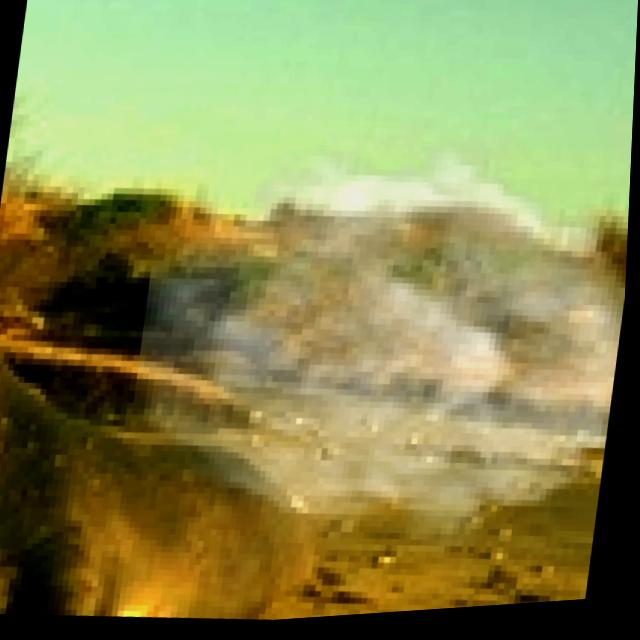smoke: (118, 107, 635, 589)
